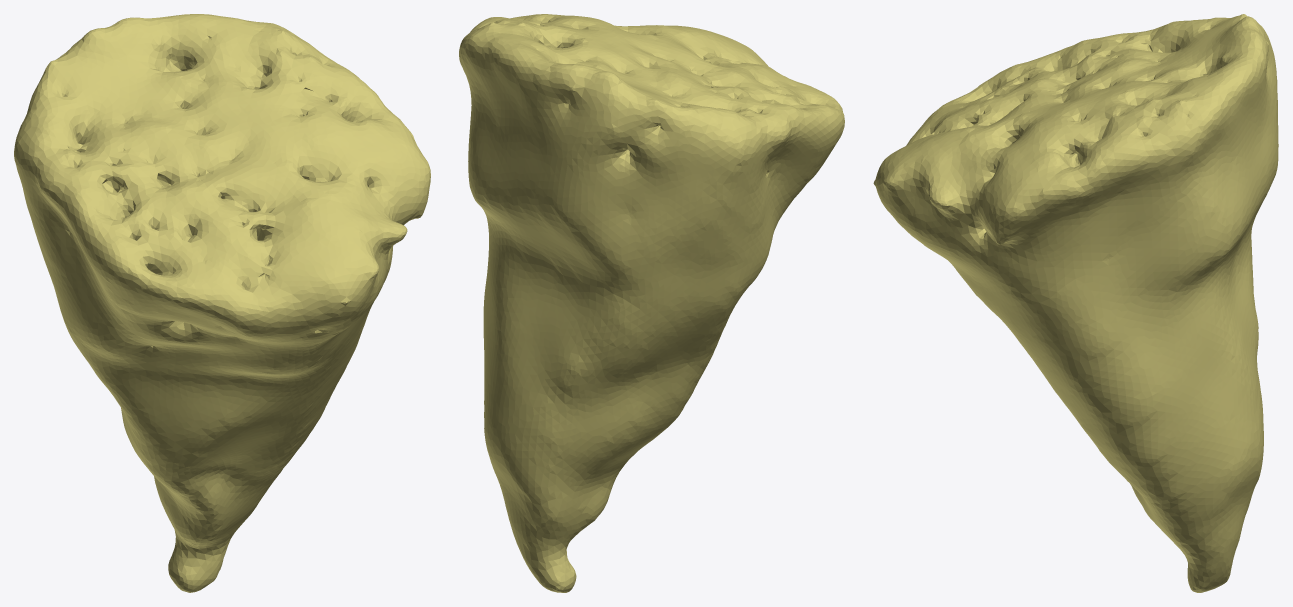
The model's file is ice_cream_bar.obj.
3 renders of one model, left to right at view 1: azimuth 30°, elevation 25°; view 2: azimuth 150°, elevation 25°; view 3: azimuth 270°, elevation 25°, orthographic. The views are drawn at different scales.
Size of the model in its own units: 0.3235 by 0.5265 by 0.3575.
